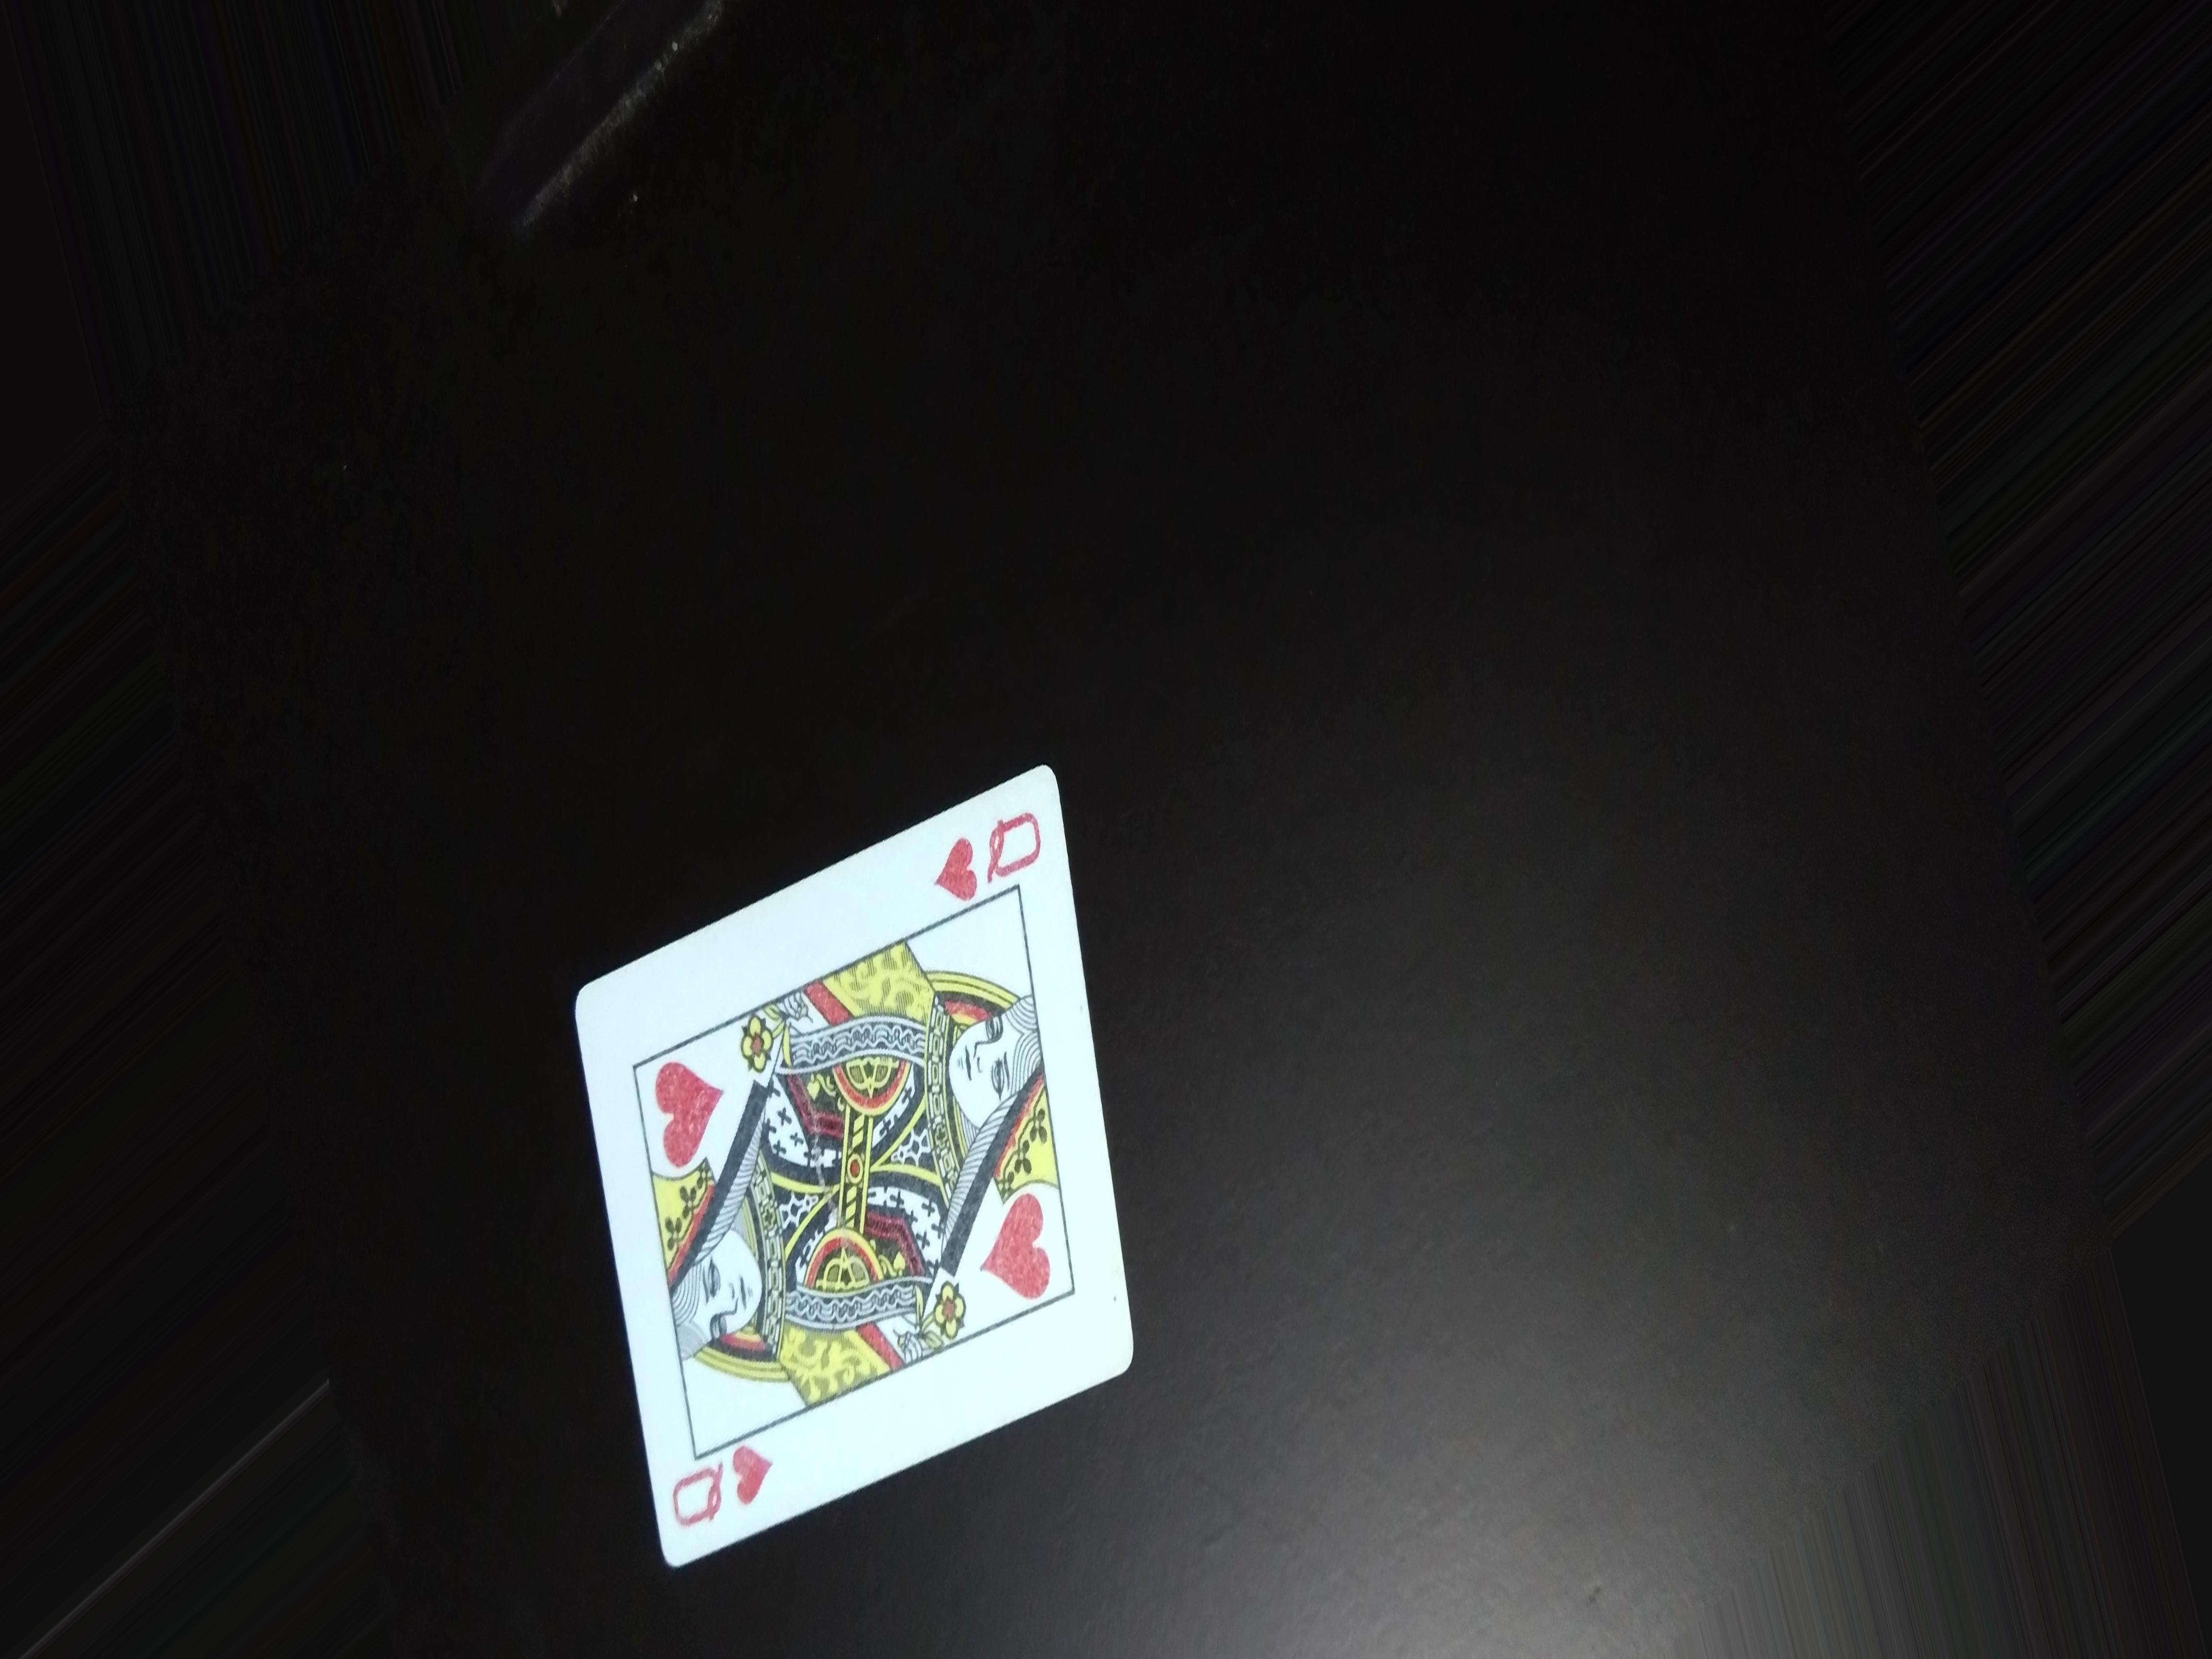QH: (930, 784, 1050, 925)
